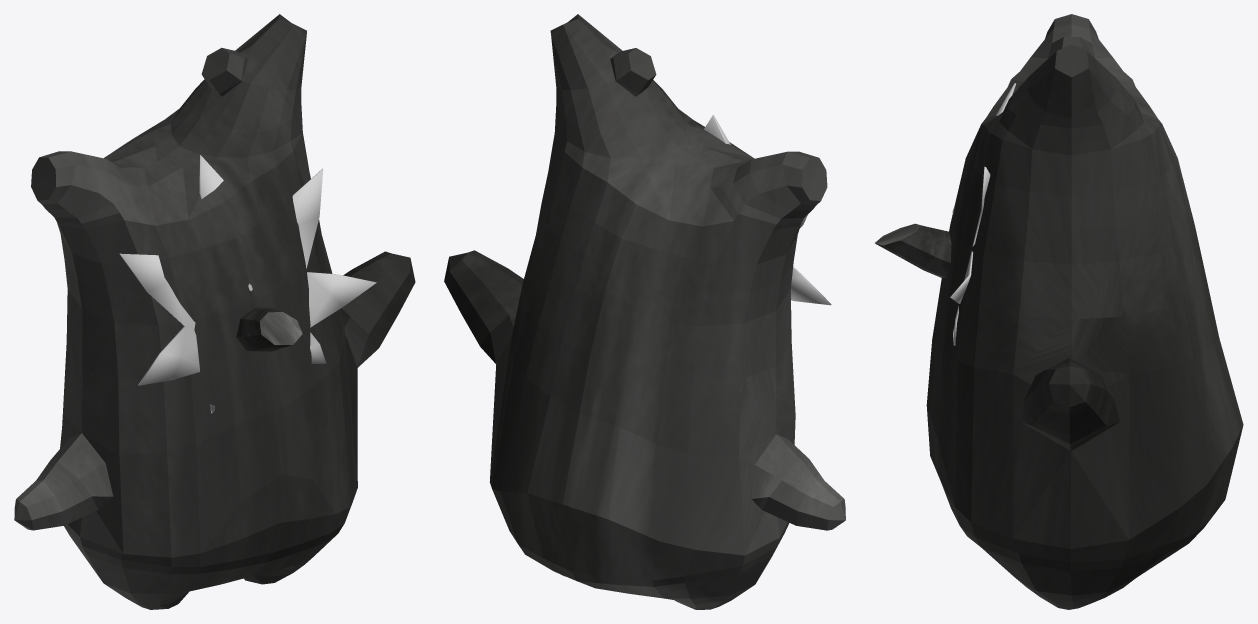
Rendered from frame_0006.obj.
3 renders of one model, left to right at view 1: azimuth 30°, elevation 25°; view 2: azimuth 150°, elevation 25°; view 3: azimuth 270°, elevation 25°, orthographic. The views are drawn at different scales.
Visible parts, largest first — view 1: korok, leaf, nose; view 2: korok, leaf; view 3: korok, nose, leaf.
Part boxes in pixels (bbox=[...]): korok: bbox=[14, 14, 415, 609]; leaf: bbox=[119, 155, 376, 413]; nose: bbox=[236, 307, 302, 351]; korok: bbox=[444, 14, 845, 609]; leaf: bbox=[704, 114, 831, 305]; korok: bbox=[926, 14, 1243, 609]; nose: bbox=[875, 223, 951, 277]; leaf: bbox=[950, 83, 1015, 345].
Size of the model in its own units: 1.72 by 2.32 by 1.36.
